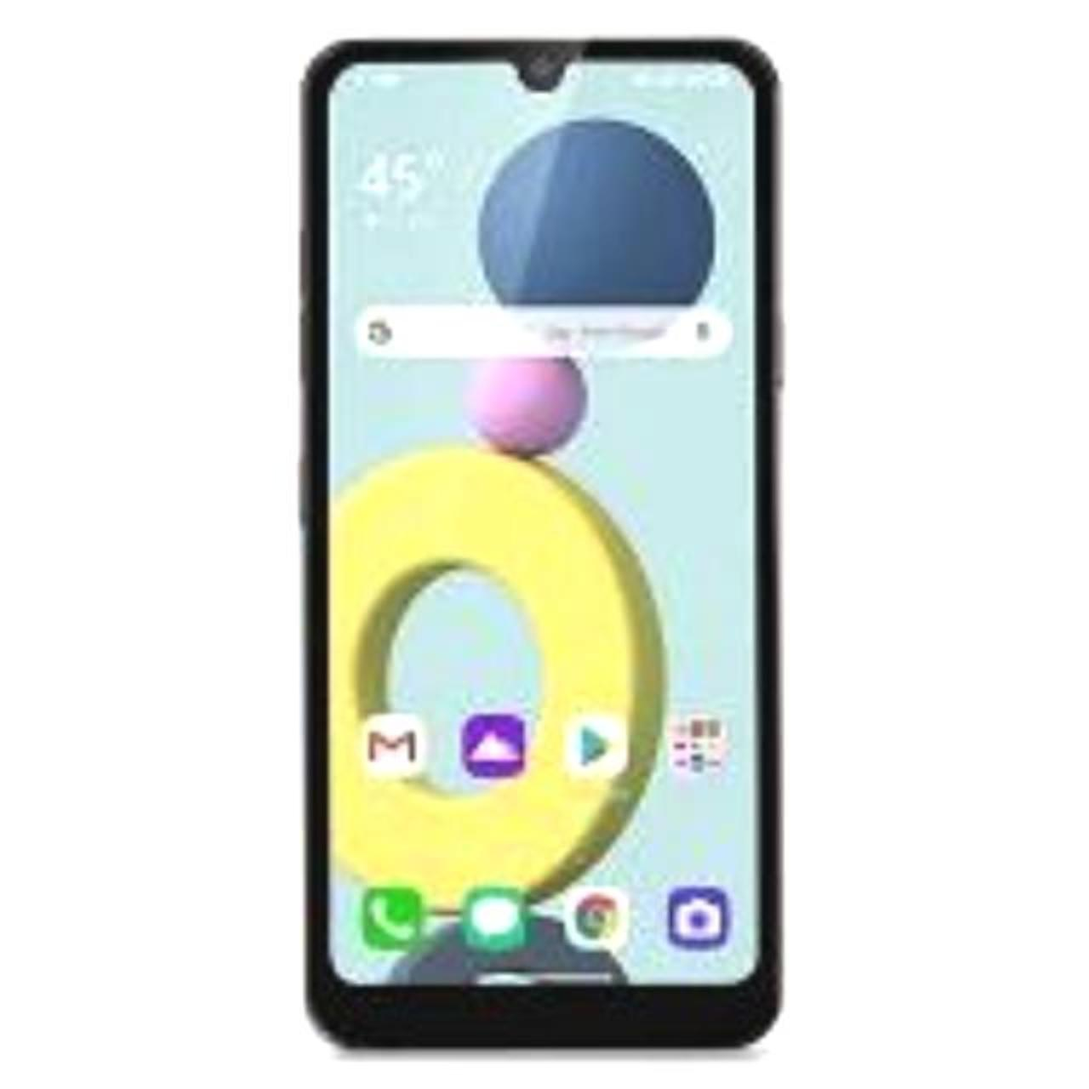phone: (306, 43, 778, 1055)
